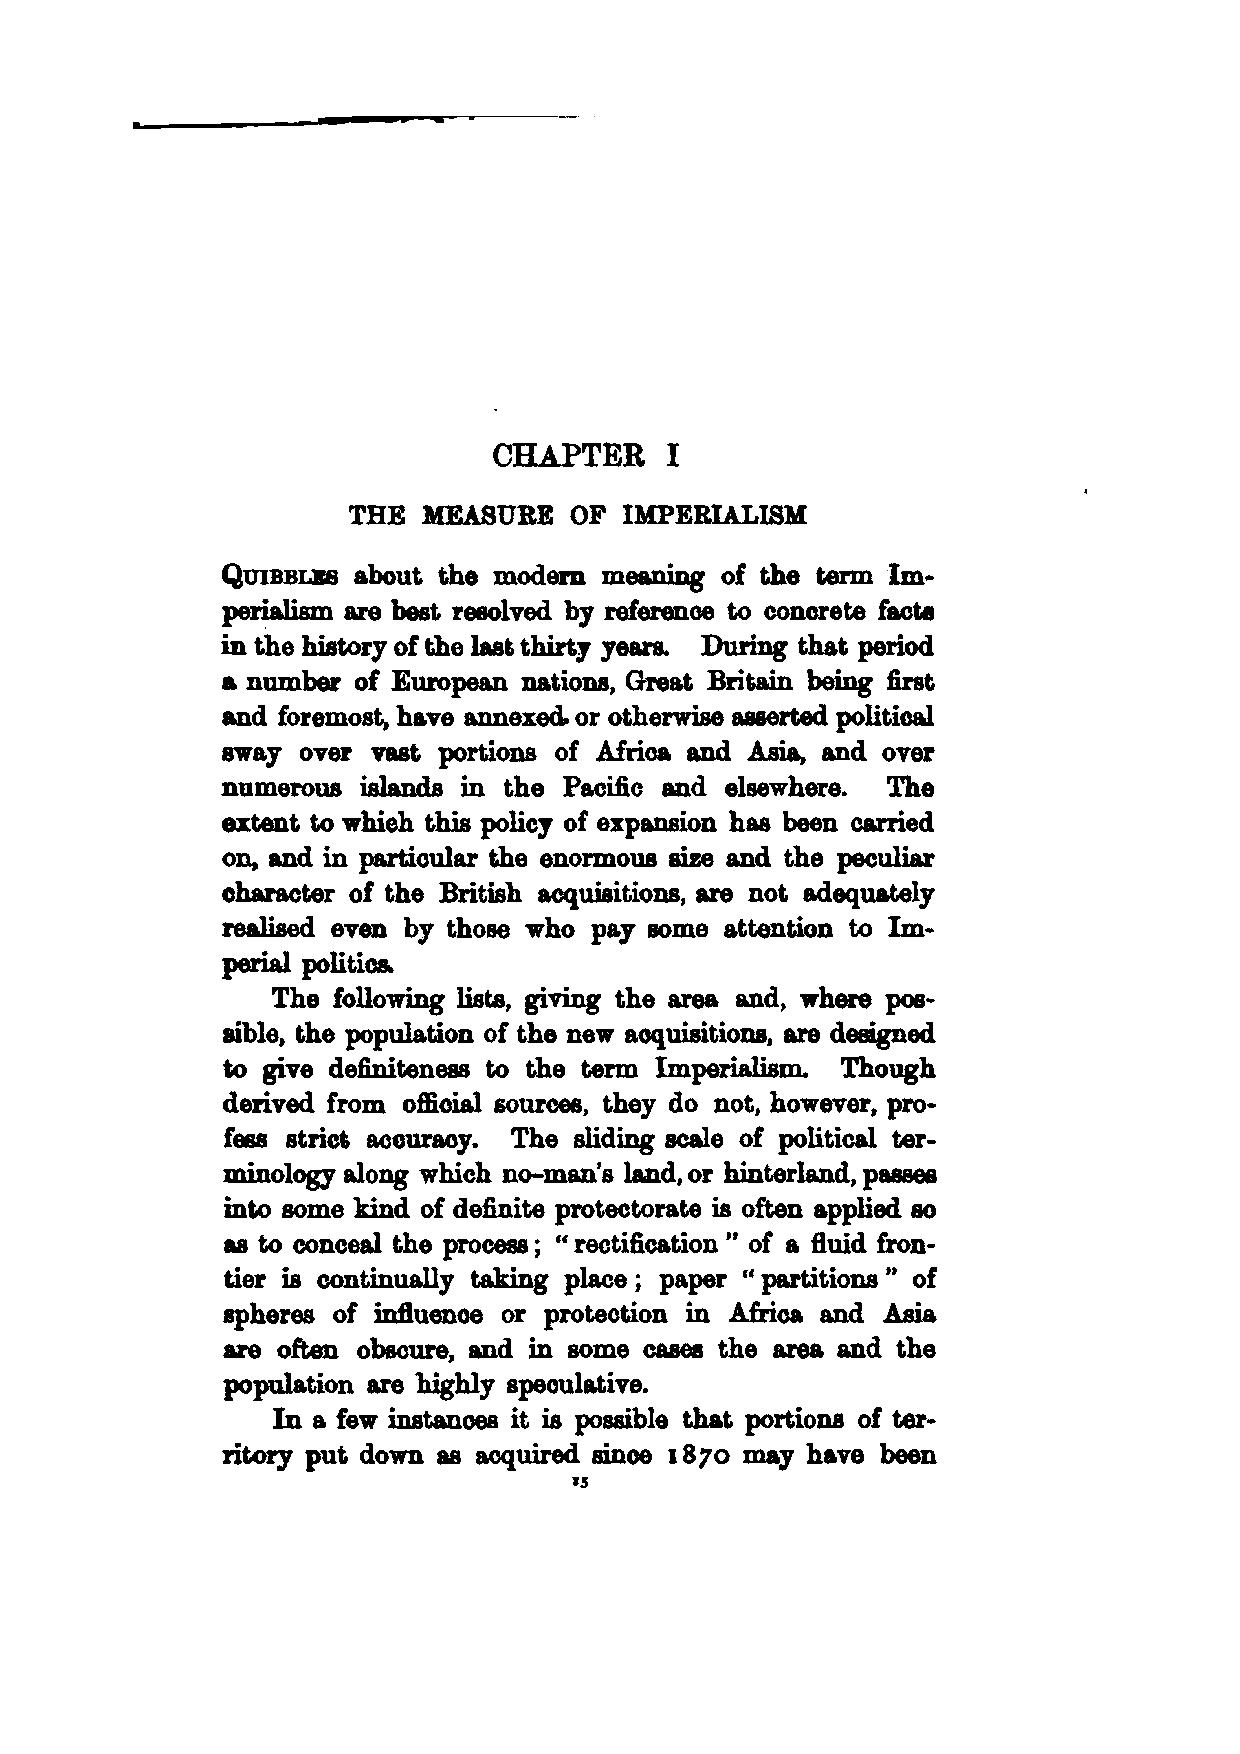chapter: (348, 439, 809, 527)
content: (217, 560, 939, 1472)
content_pagenumber: (568, 1476, 590, 1490)
